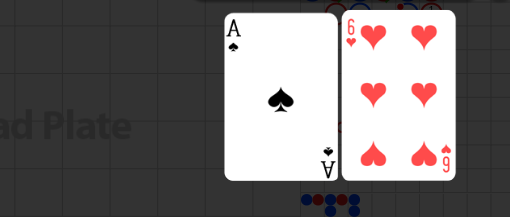6H: (346, 17, 358, 49)
AS: (319, 144, 336, 179)
